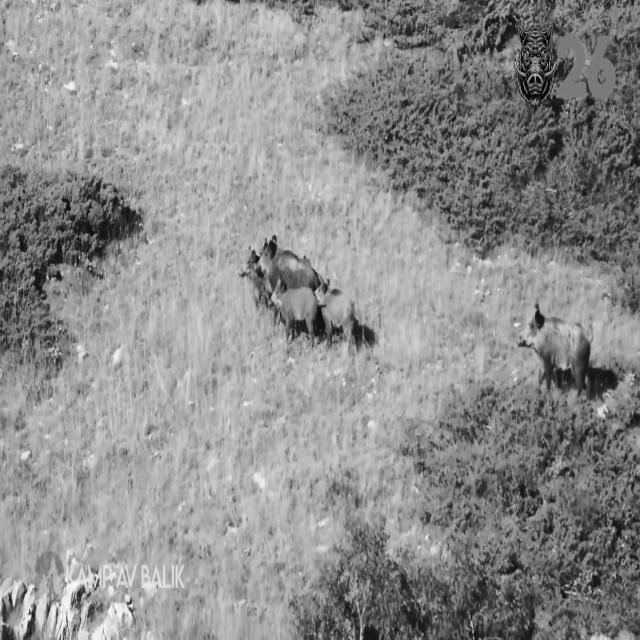boar: (240, 235, 358, 343), (518, 302, 590, 396), (515, 23, 558, 109)
